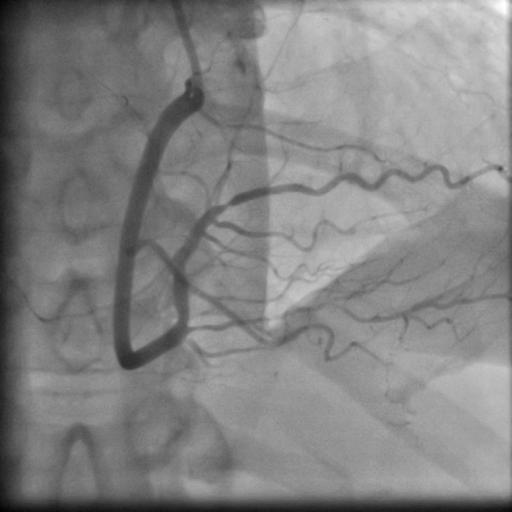Stenosis: (213, 195, 239, 215)
